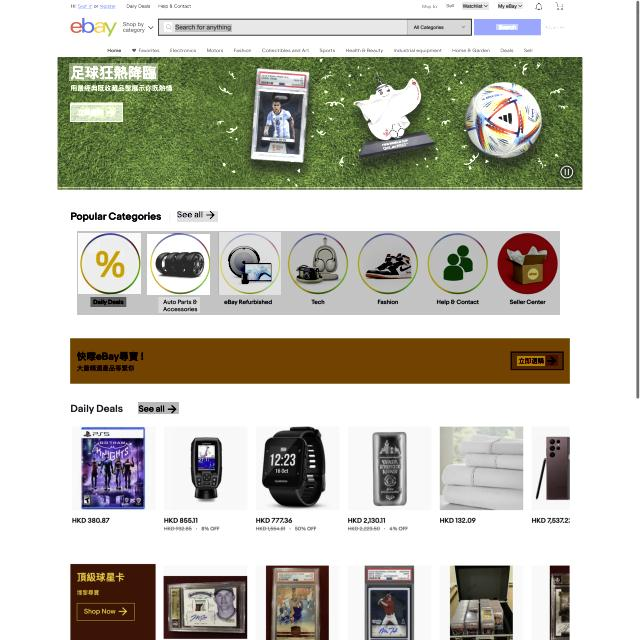CheckBox: (474, 18, 541, 36), (510, 351, 564, 370), (70, 104, 123, 122), (177, 212, 218, 224), (138, 402, 179, 414), (546, 355, 558, 366), (544, 25, 568, 30)
CheckedTextView: (158, 18, 472, 36)
ImageView: (70, 338, 570, 384)
accordion: (130, 403, 134, 415)
alert: (407, 19, 472, 35), (120, 19, 155, 34), (462, 2, 489, 10), (498, 2, 523, 9)
bag: (0, 0, 636, 57)
breadcrumbs: (68, 210, 162, 225), (70, 403, 127, 416)
card: (58, 58, 582, 190)
carousel: (554, 1, 565, 11), (534, 1, 544, 11), (106, 107, 116, 117), (164, 22, 172, 32)
copy: (219, 232, 281, 295), (79, 233, 141, 294), (148, 234, 210, 295)
data feed: (159, 297, 200, 313), (91, 297, 128, 307), (78, 107, 104, 118), (517, 356, 545, 366), (496, 24, 518, 30)
date picker: (69, 16, 118, 39)
decoration: (78, 231, 562, 315), (97, 46, 538, 58)
footer: (175, 24, 232, 32)
image: (69, 63, 158, 81)
